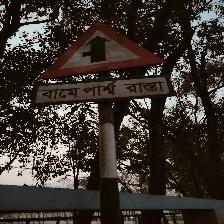Side-road-left: (34, 20, 173, 108)
